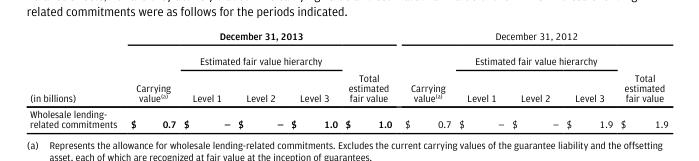table: (28, 29, 667, 129)
table column: (28, 29, 123, 129), (340, 29, 397, 129), (397, 29, 454, 129), (123, 29, 179, 129), (561, 29, 616, 129), (179, 29, 233, 129), (286, 29, 340, 129), (507, 29, 561, 129), (233, 29, 286, 129), (454, 29, 507, 129), (616, 29, 667, 129)
table column header: (28, 29, 667, 105)
table row: (28, 48, 667, 78), (28, 78, 667, 105), (28, 105, 667, 129), (28, 29, 667, 48)
table spanning cell: (28, 29, 123, 105), (123, 29, 397, 48), (397, 29, 667, 48), (454, 48, 616, 78), (179, 48, 340, 78), (340, 48, 397, 105), (397, 48, 454, 105), (123, 48, 179, 105), (616, 48, 667, 105)
